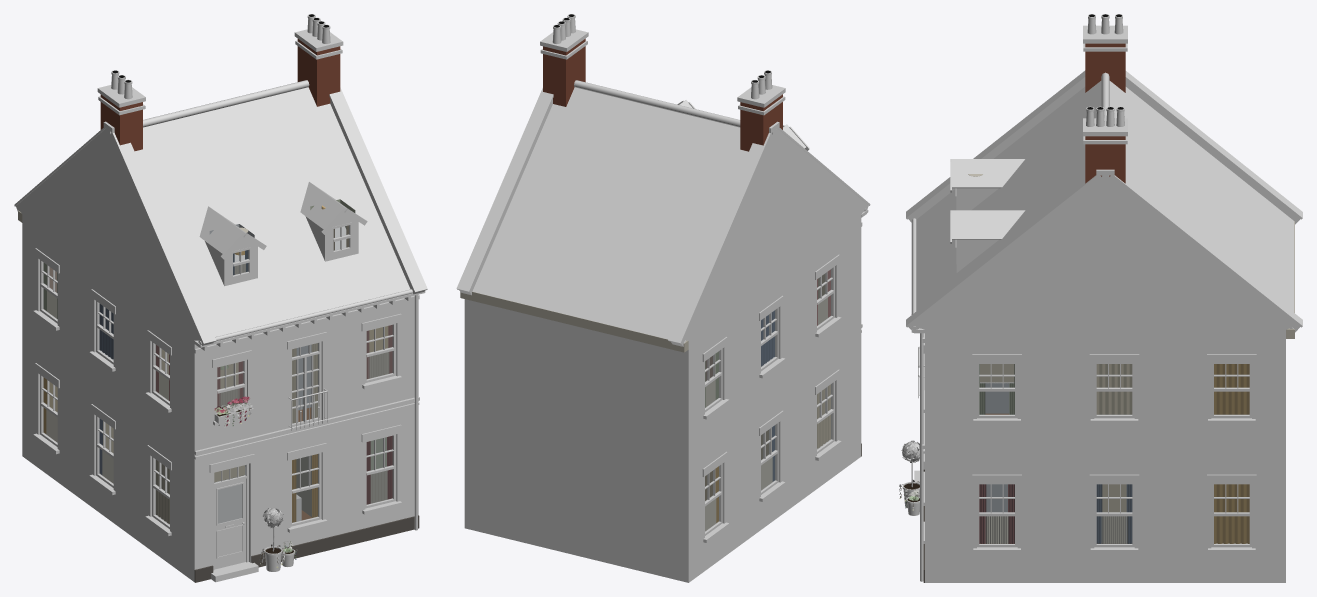
The model's file is GateStreet_Bend3.glb.
3 views of the same model, side by side, from view 1: azimuth 30°, elevation 25°; view 2: azimuth 150°, elevation 25°; view 3: azimuth 270°, elevation 25° (orthographic). The views are drawn at different scales.
Parts seen in each view (by area): view 1: GateStreet_Bend3; view 2: GateStreet_Bend3; view 3: GateStreet_Bend3.
Part boxes in pixels (x1=…): GateStreet_Bend3: x1=14, y1=14, x2=427, y2=582; GateStreet_Bend3: x1=456, y1=14, x2=870, y2=582; GateStreet_Bend3: x1=899, y1=14, x2=1302, y2=582.
Size of what is drawn, in the model's own units: 6.18 by 11.44 by 8.95.
